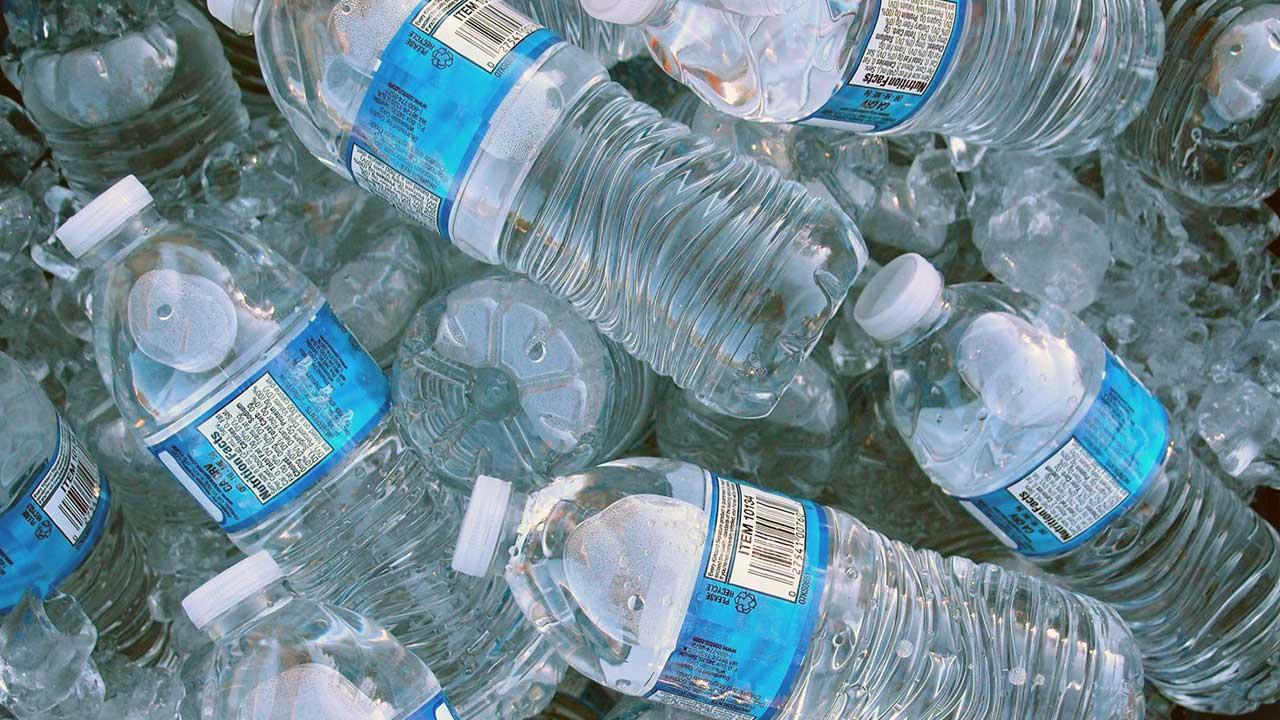paper: (2, 125, 608, 720), (429, 406, 1176, 720), (348, 232, 674, 553), (581, 0, 1164, 155), (182, 551, 457, 719)
